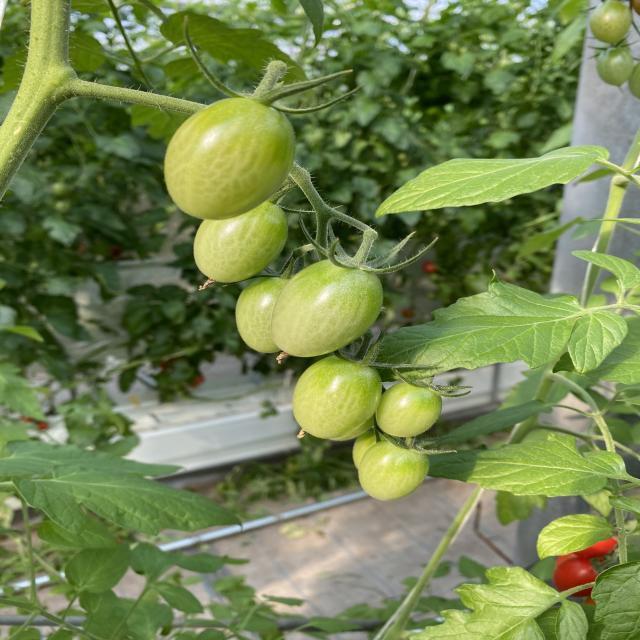yesil: (127, 87, 497, 524)
